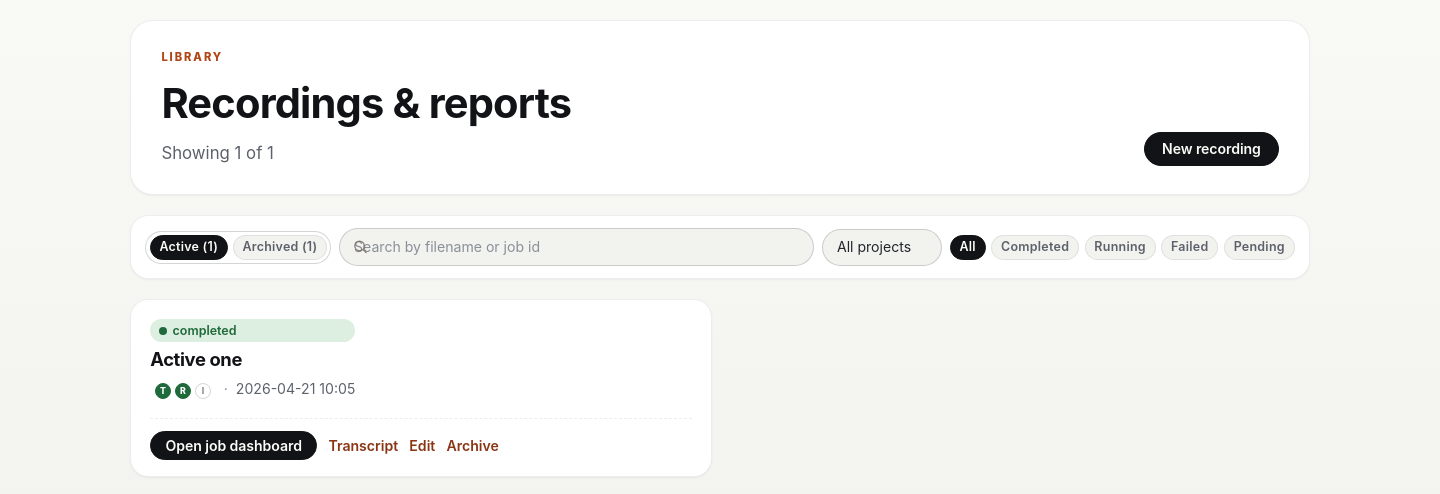
JobsIndexPage library filters › switches to archived view when the Archived tab is clicked
Check: the heading "Active one" is shown, box [150, 348, 242, 370]
Check: the text "Archived one" is not shown
Click the tab "Archived (1)": [280, 247] box [233, 235, 327, 260]
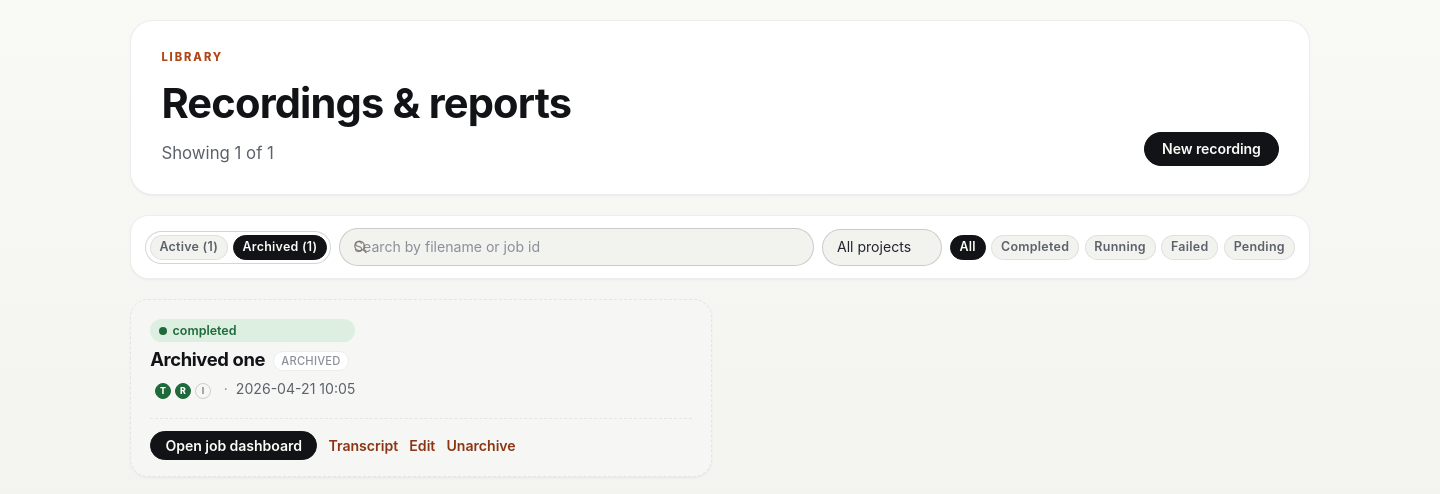
Check: the heading "Archived one" is shown, box [150, 348, 265, 370]
Check: the heading "Active one" is gone
